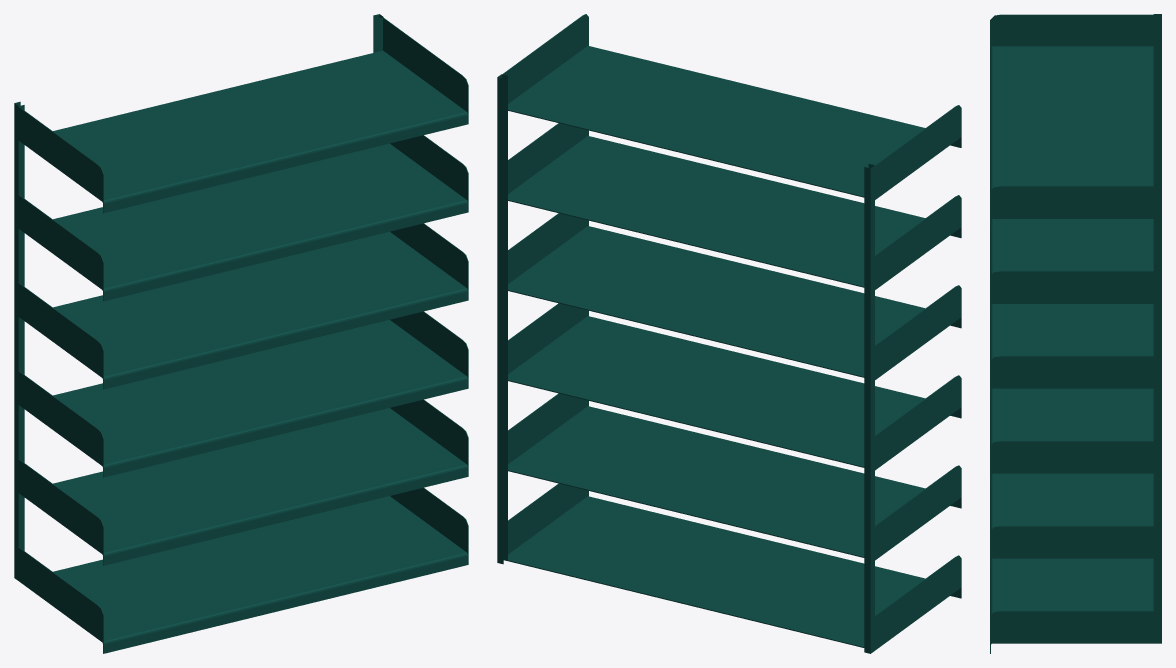
Rendered from Shelf.fbx.
3 views of the same model, side by side, from view 1: azimuth 30°, elevation 25°; view 2: azimuth 150°, elevation 25°; view 3: azimuth 270°, elevation 25° (orthographic). The views are drawn at different scales.
Parts seen in each view (by area): view 1: Cube; view 2: Cube; view 3: Cube.
Boxes of the visible parts, x1=… form: Cube: x1=14, y1=14, x2=468, y2=653; Cube: x1=497, y1=14, x2=961, y2=653; Cube: x1=990, y1=14, x2=1161, y2=653.
Bounding box in the file's own units: 503 × 639 × 213.
